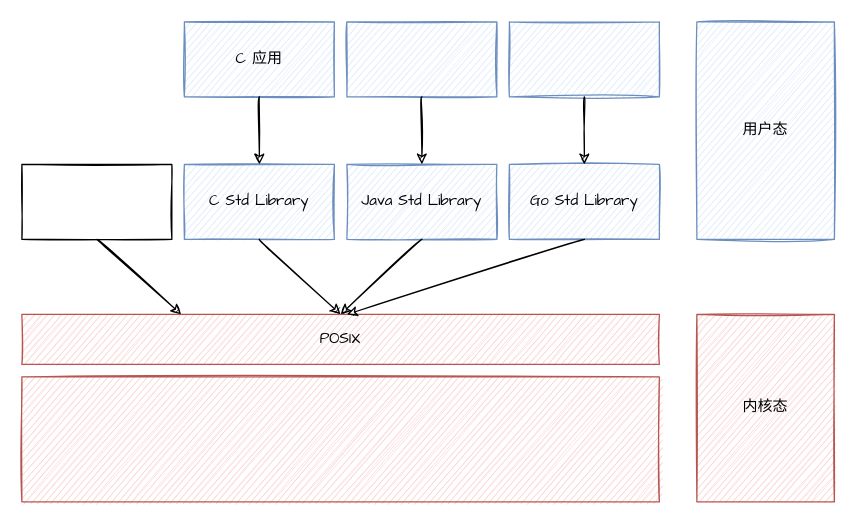
This 856x524 diagram has some shape labels left out. The shapes that lost their labels are listed below. From the top down, each one's centre as x and y in pixels, then its label:
At [421,59]: "Java 应用".
At [583,59]: "Go 应用".
At [96,201]: "Shell".
At [340,439]: "Linux/Unix".
